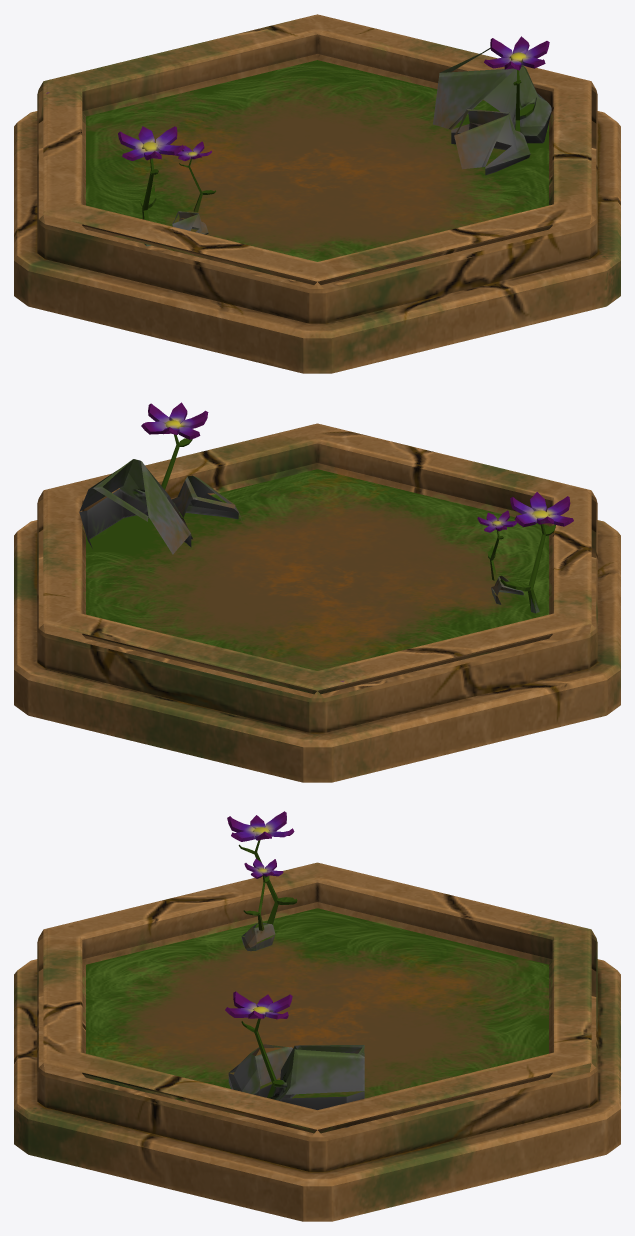
The model's file is Stand.fbx.
3 views of the same model, one above another, from view 1: azimuth 30°, elevation 25°; view 2: azimuth 150°, elevation 25°; view 3: azimuth 270°, elevation 25° (orthographic).
Parts seen in each view (by area): view 1: low; view 2: low; view 3: low.
Boxes of the visible parts, x1,y1,x2,y2 form: low: [14, 14, 620, 373]; low: [14, 402, 620, 782]; low: [14, 811, 620, 1221].
Size of the model in its own units: 9526 by 2509 by 8449.
Materials: 1 (1 with a texture image).
